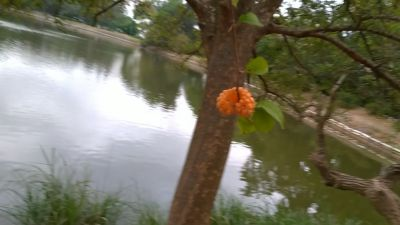eggs: (215, 85, 256, 118)
